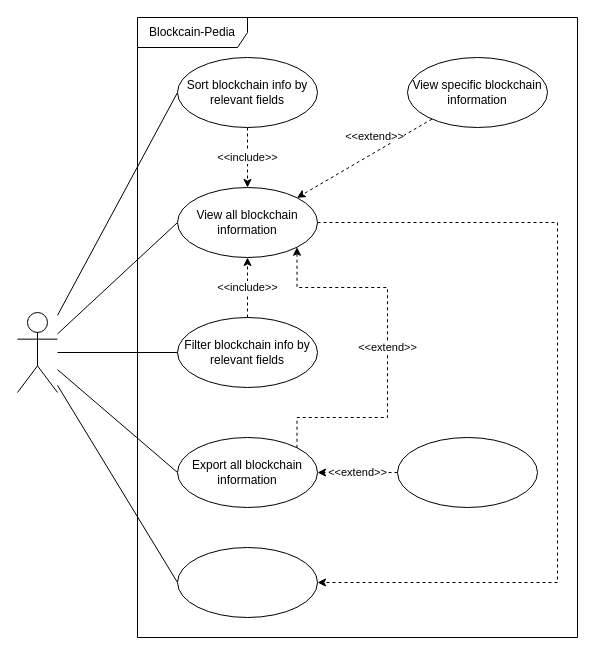
The diagram is 595 pixels wide and 655 high, and some of its shapes have lost their labels. Here are the shapes that lost their labels. From the top down, the centre of each, then its label:
At point 37,352: "User".
At point 467,472: "Export specific blockchain information".
At point 247,582: "Analyze blockchain recommendation".
